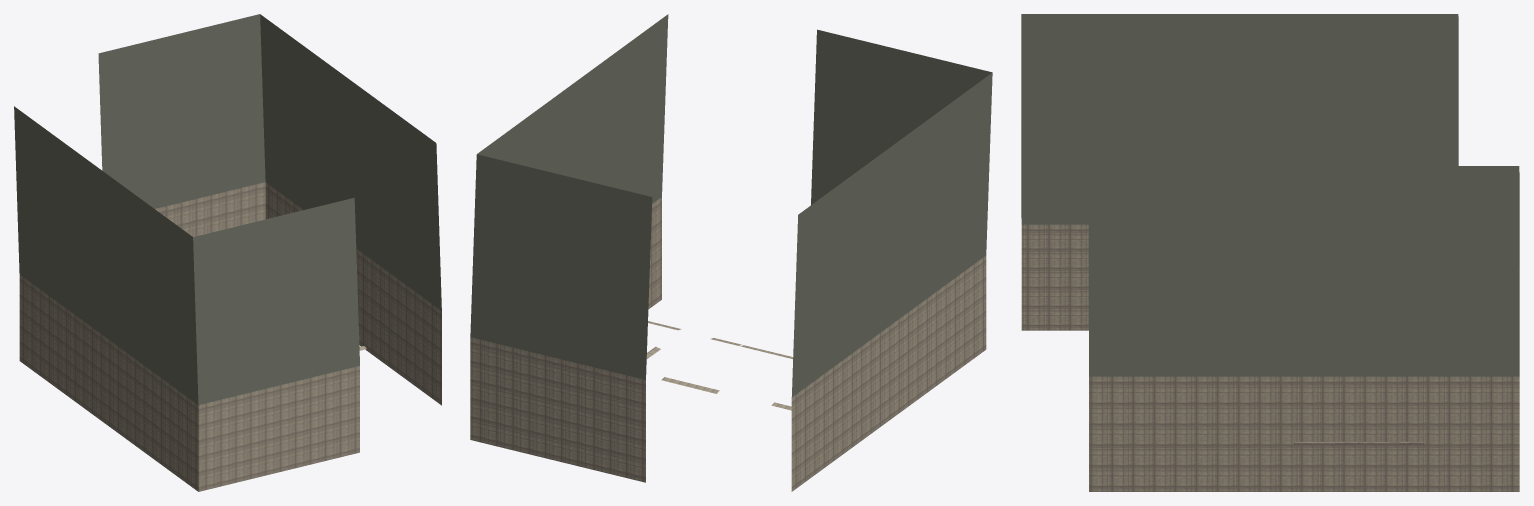
3 views of the same model, side by side, from view 1: azimuth 30°, elevation 25°; view 2: azimuth 150°, elevation 25°; view 3: azimuth 270°, elevation 25° (orthographic). The views are drawn at different scales.
Parts seen in each view (by area): view 1: SM_HK_02_04.001, SM_HK_02_04; view 2: SM_HK_02_04.001, SM_HK_02_04; view 3: SM_HK_02_04.001, SM_HK_02_04.
Part boxes in pixels (x1,y1,x2,y2): SM_HK_02_04.001: (14, 14, 441, 404); SM_HK_02_04: (19, 182, 441, 491); SM_HK_02_04.001: (470, 14, 992, 397); SM_HK_02_04: (470, 197, 986, 491); SM_HK_02_04.001: (1021, 14, 1519, 376); SM_HK_02_04: (1021, 224, 1519, 491).
Bounding box in the file's own units: 3876 × 3523 × 4932.
